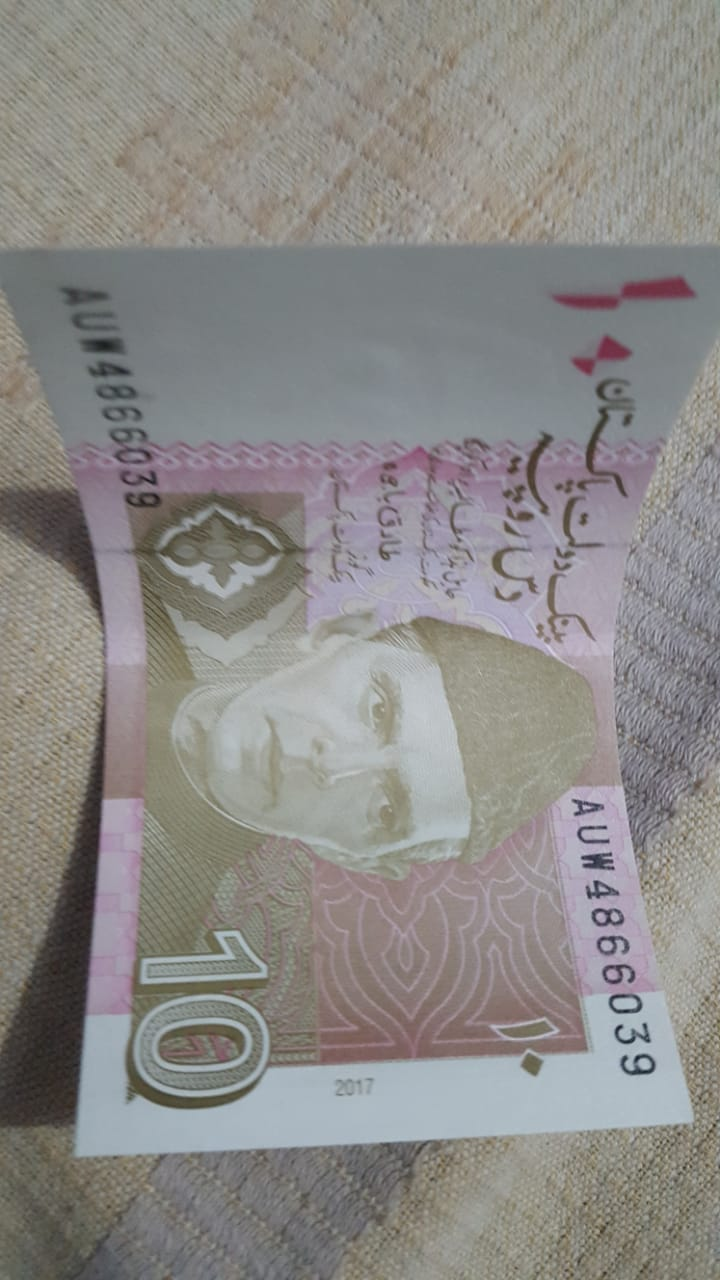10 rupee: (6, 218, 711, 1193)
